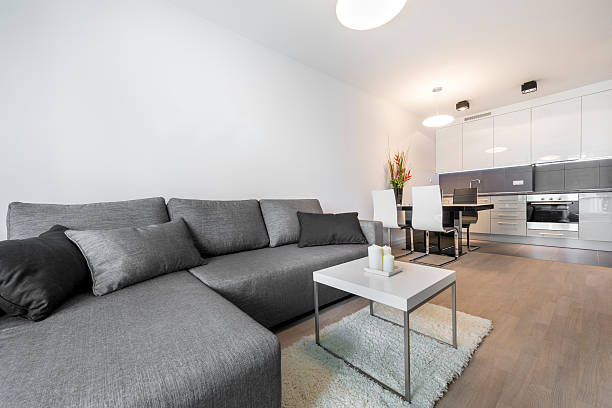dining table set: (369, 182, 495, 267)
flower vase: (385, 142, 411, 204)
sofa: (0, 196, 384, 406)
table: (310, 253, 461, 403)
